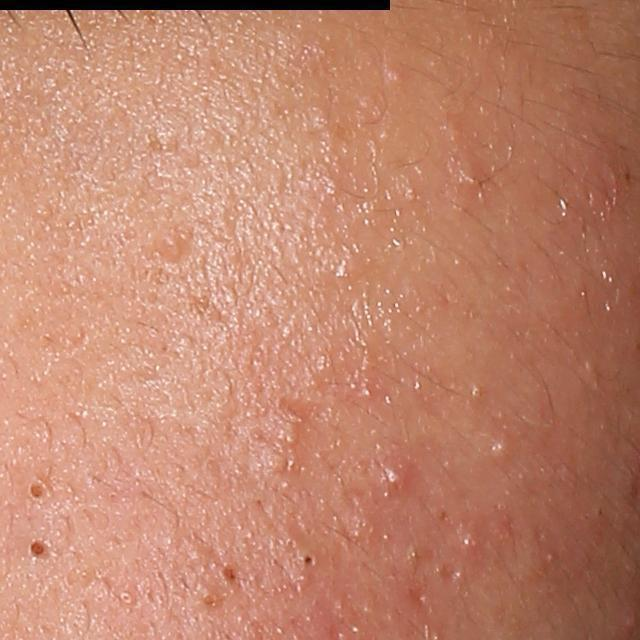comedo: (151, 228, 195, 265), (276, 404, 304, 451), (489, 438, 514, 471), (26, 535, 51, 563), (453, 530, 478, 558), (196, 589, 223, 613), (388, 65, 415, 86), (27, 478, 47, 502), (298, 550, 317, 570), (469, 382, 484, 401), (117, 589, 133, 606)
papule: (378, 464, 415, 501), (620, 609, 639, 632)
